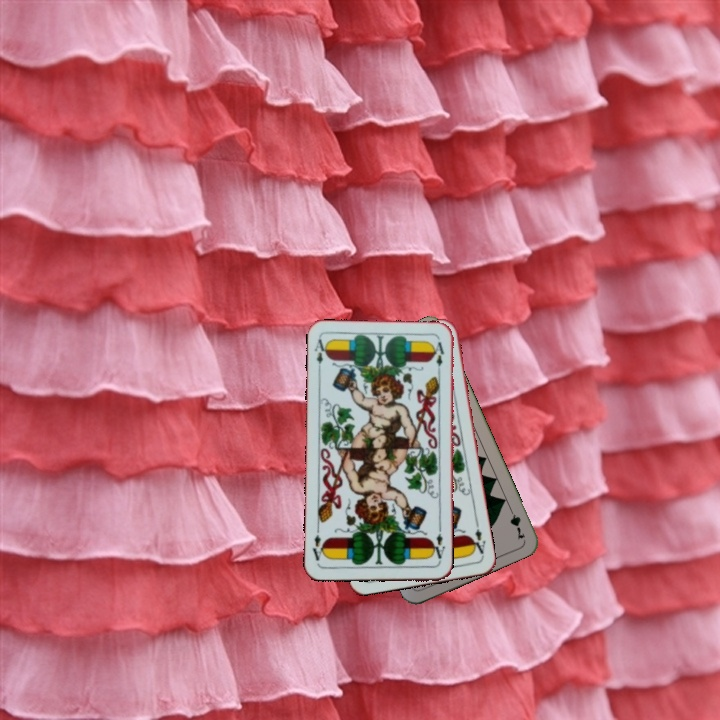EA: (428, 525, 448, 565), (310, 335, 330, 375), (467, 525, 488, 559)
G7: (505, 502, 528, 542)
